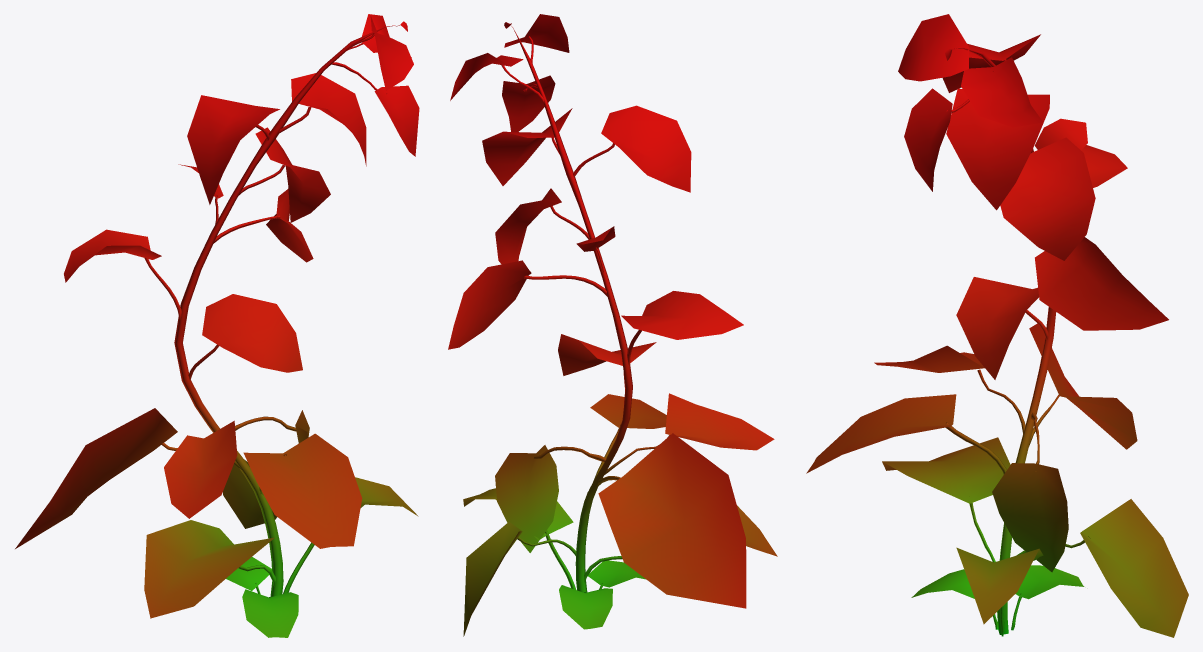
File: Money Plant_LOD1_Var3_uchmfdyia.fbx
The picture shows the model from 3 angles, left to right: view 1: azimuth 30°, elevation 25°; view 2: azimuth 150°, elevation 25°; view 3: azimuth 270°, elevation 25°; orthographic projection. The views are drawn at different scales.
Parts seen in each view (by area): view 1: _3198_Var3_LOD1; view 2: _3198_Var3_LOD1; view 3: _3198_Var3_LOD1.
Boxes of the visible parts, bbox=[...] form: _3198_Var3_LOD1: bbox=[15, 14, 419, 637]; _3198_Var3_LOD1: bbox=[448, 14, 777, 636]; _3198_Var3_LOD1: bbox=[806, 14, 1188, 637].
Bounding box in the file's own units: 20.14 × 33.01 × 17.4.
